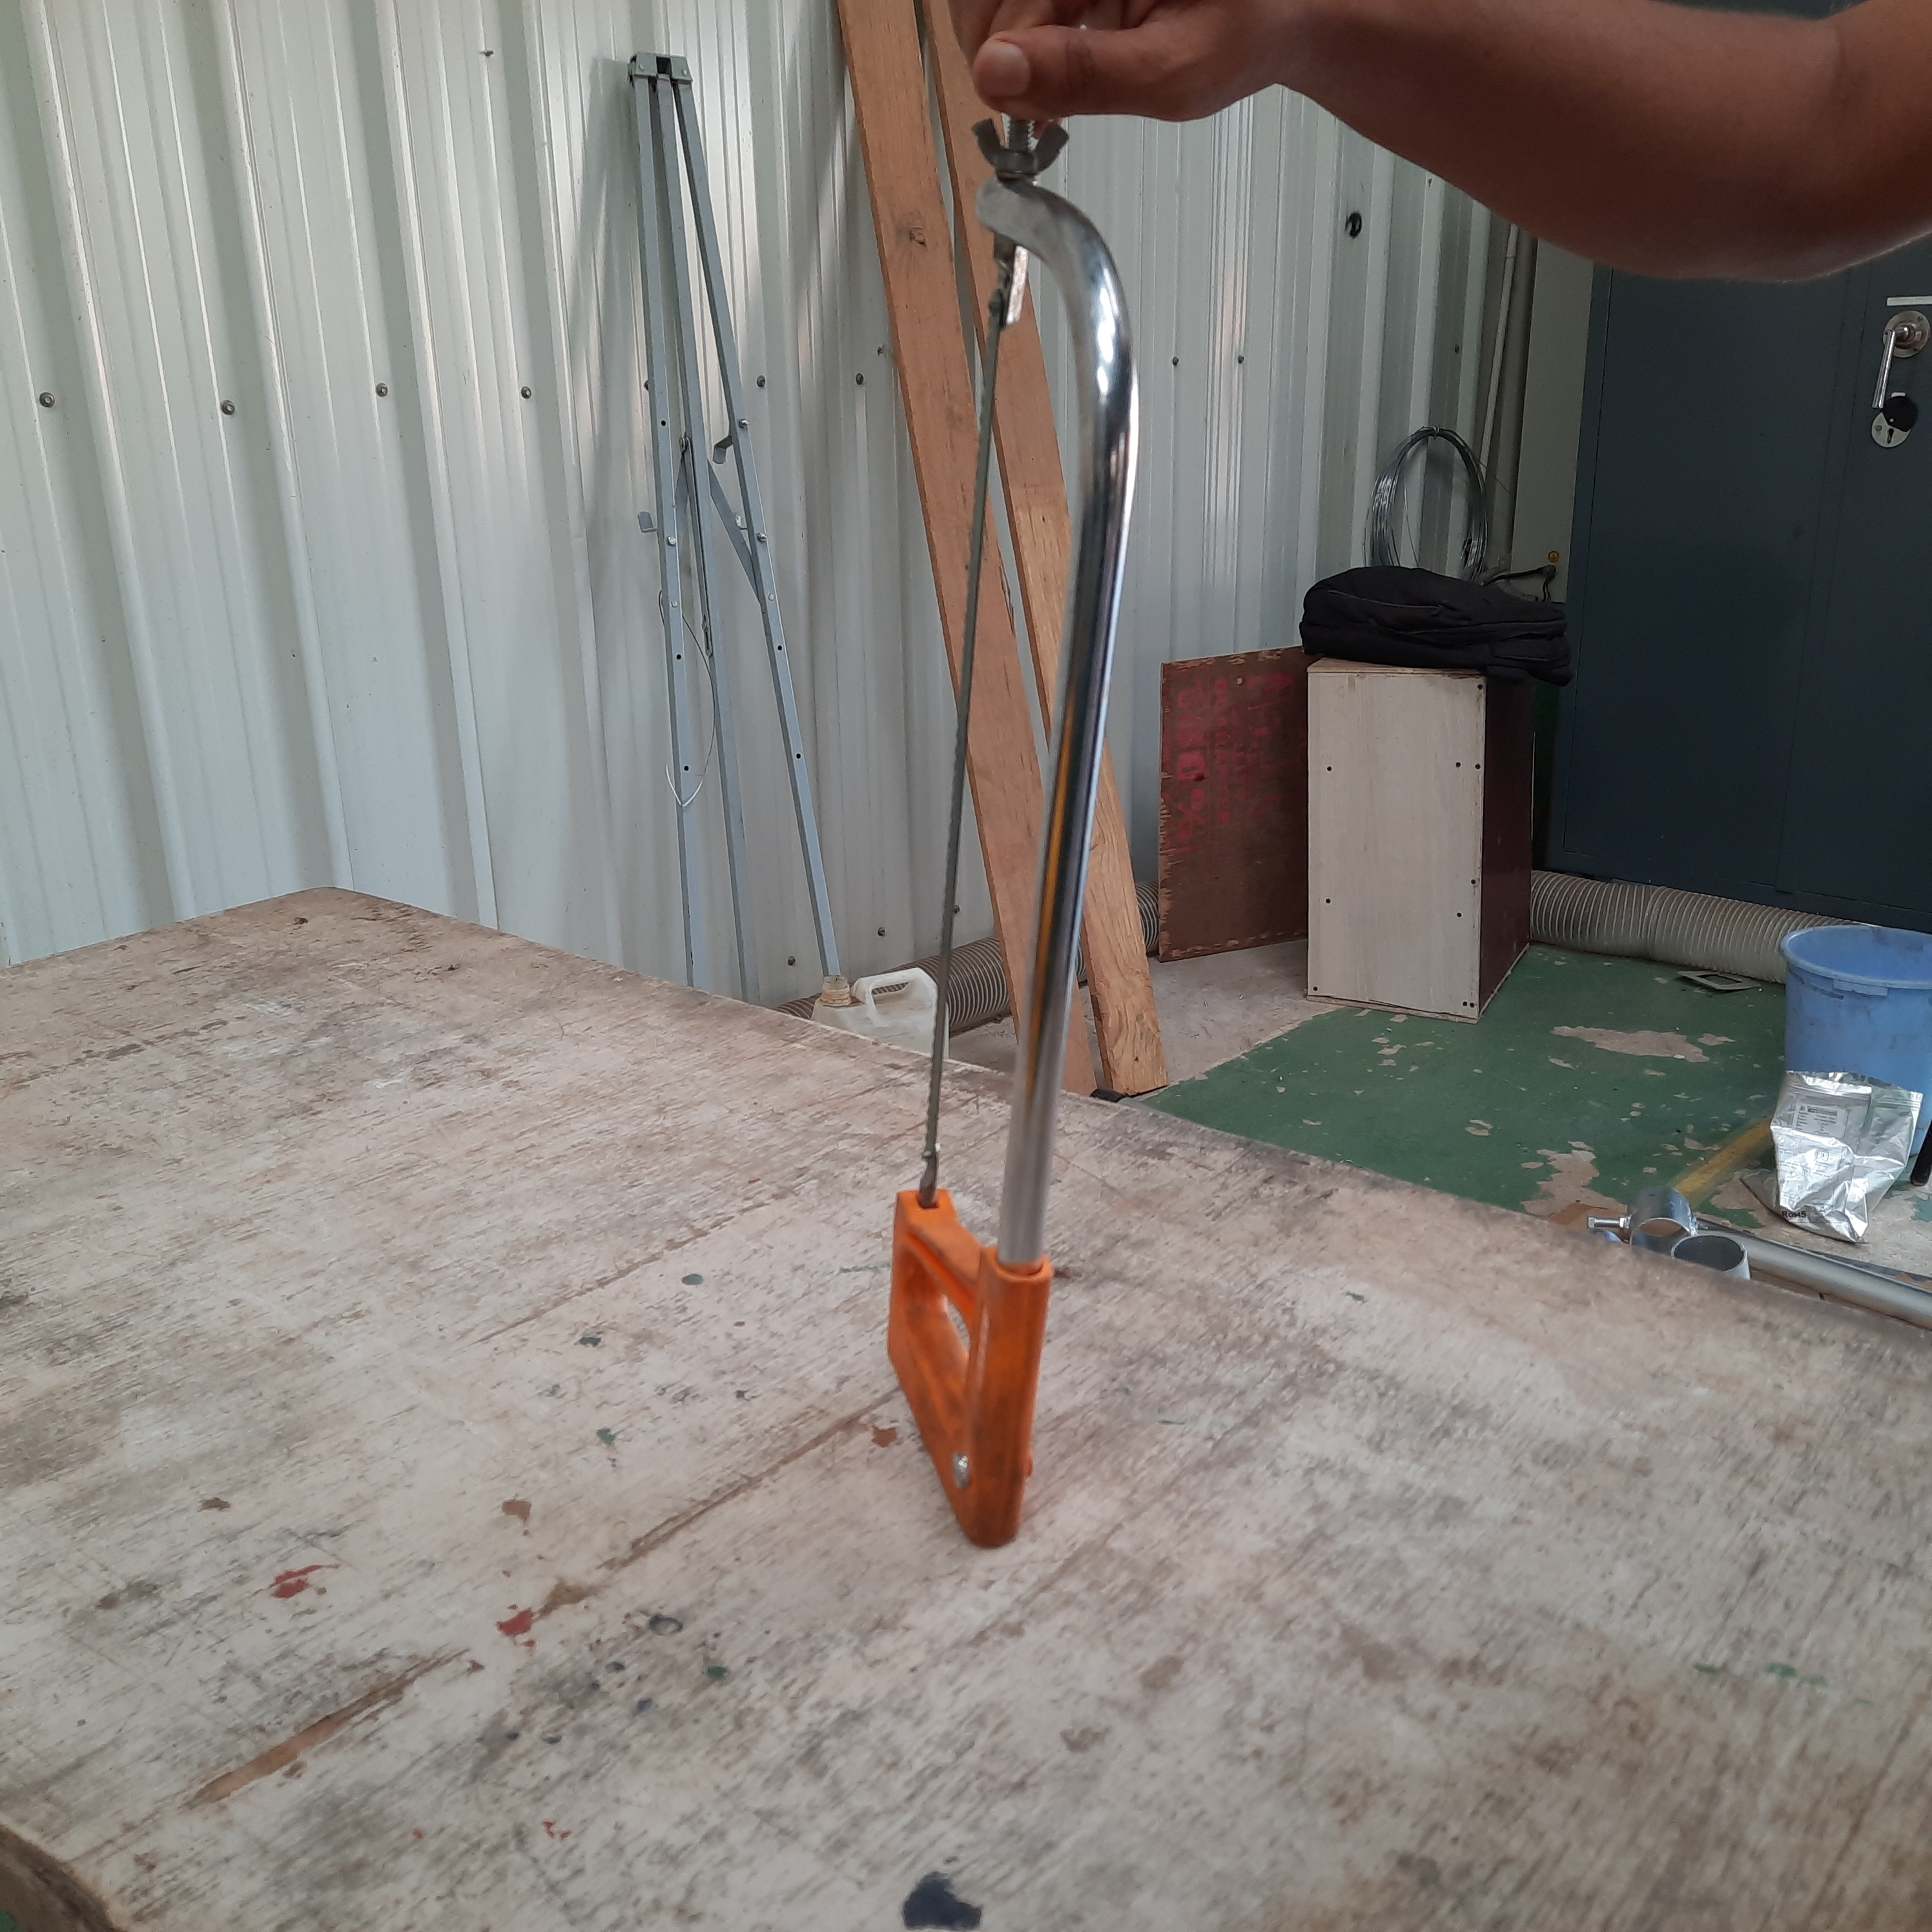Hexaframe: (869, 101, 1194, 1555)
